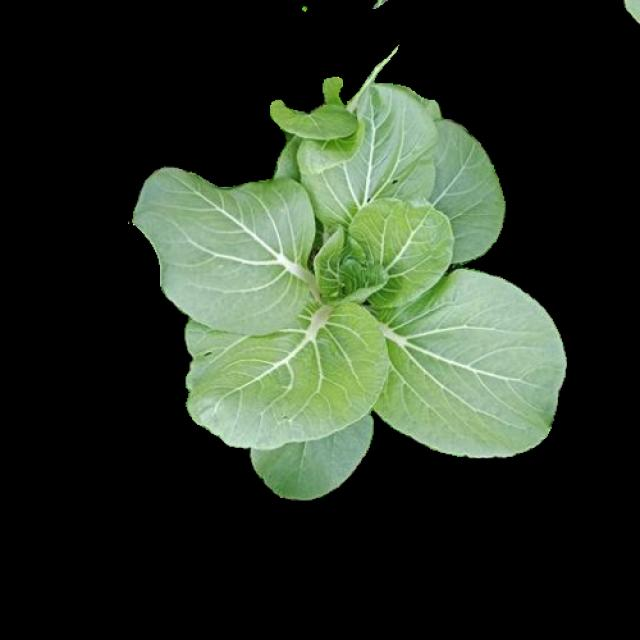mature: (137, 76, 570, 503)
unhealthy: (187, 297, 390, 448), (297, 85, 439, 226)
